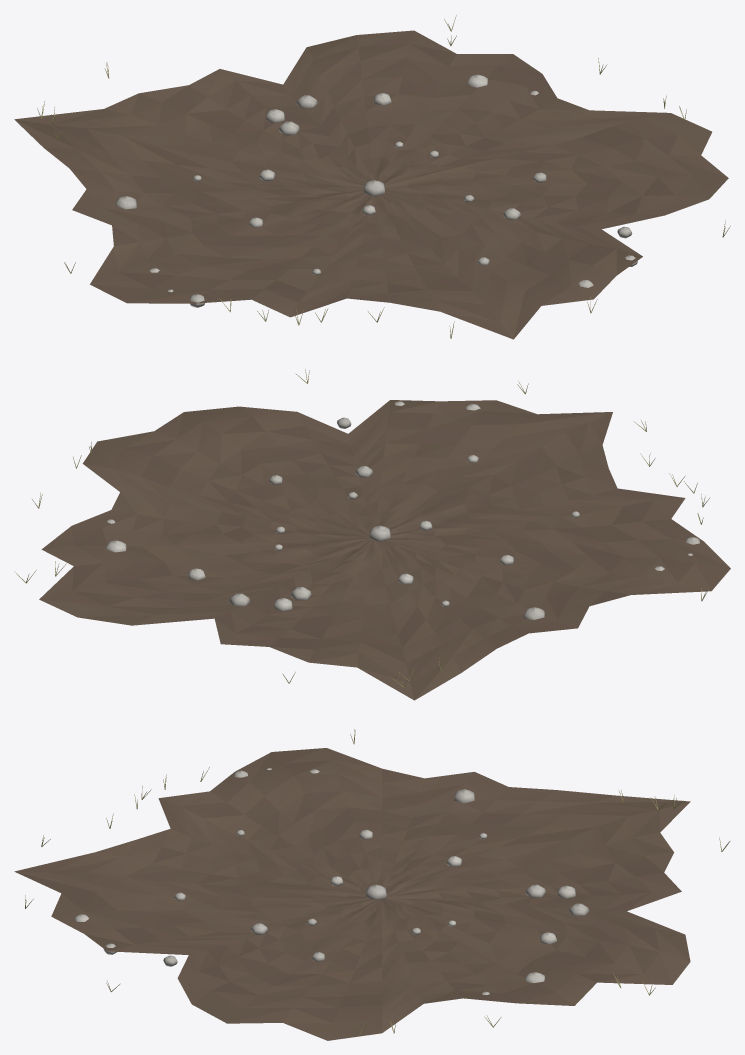
The model's file is storm_scoured_patch_a.glb.
3 views of the same model, one above another, from view 1: azimuth 30°, elevation 25°; view 2: azimuth 150°, elevation 25°; view 3: azimuth 270°, elevation 25° (orthographic). The views are drawn at different scales.
Visible parts, largest first — view 1: body; view 2: body; view 3: body.
Part boxes in pixels (x1,y1,x2,y2): body: (14,15,730,339); body: (14,369,730,700); body: (14,729,730,1040).
Size of the model in its own units: 6.35 by 0.2055 by 6.44.
